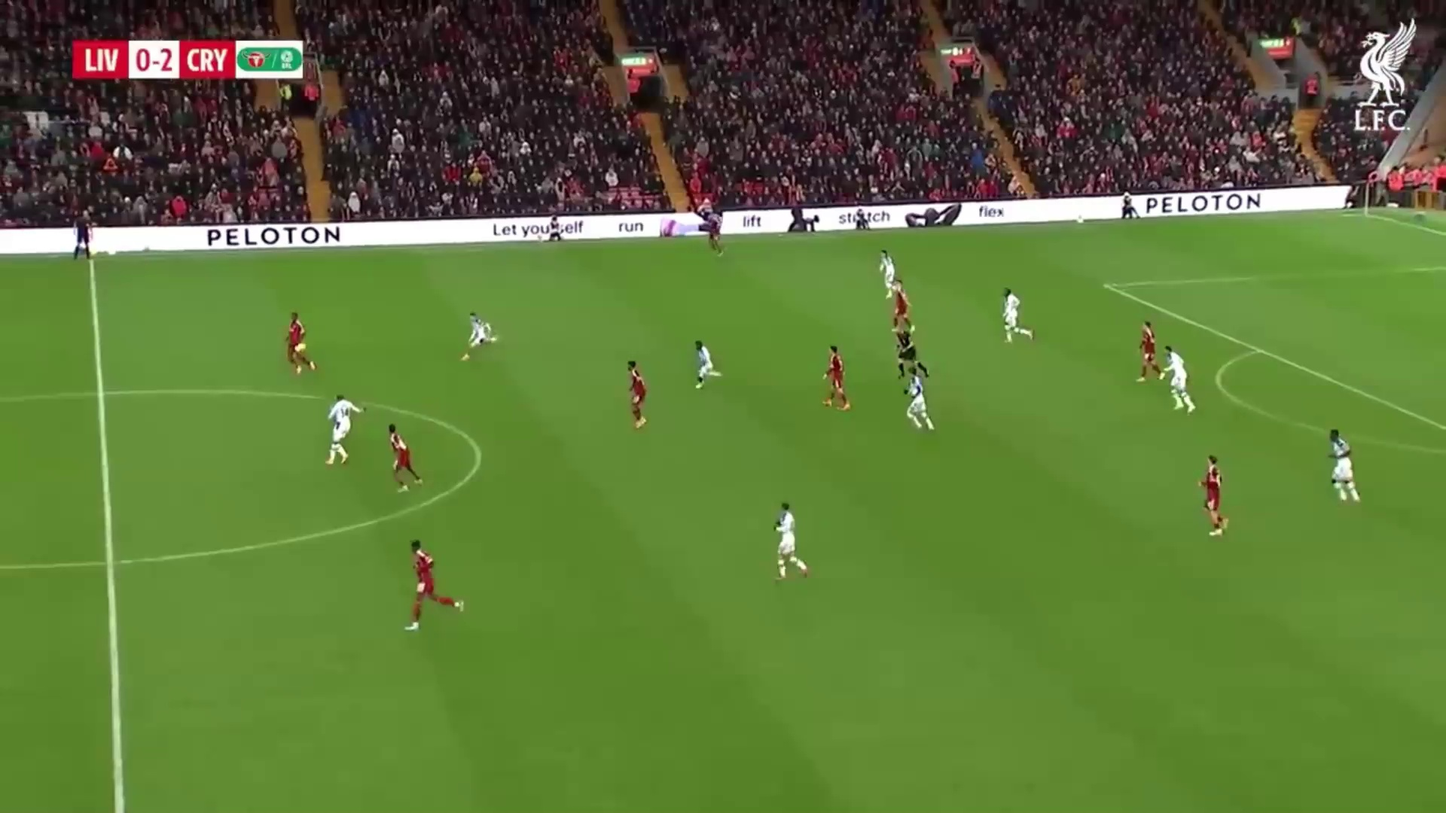player: (405, 541, 463, 630), (774, 498, 811, 580), (403, 539, 435, 632), (1198, 453, 1230, 538), (1328, 427, 1361, 503), (326, 394, 360, 466), (822, 343, 853, 412), (1164, 348, 1196, 414), (387, 425, 419, 490), (774, 499, 800, 579), (284, 312, 315, 376), (1001, 289, 1035, 345), (905, 366, 934, 431), (462, 312, 497, 362), (626, 361, 648, 430), (1160, 346, 1189, 398), (1137, 321, 1160, 381), (1001, 288, 1025, 343), (693, 338, 718, 388), (1120, 194, 1138, 221)
